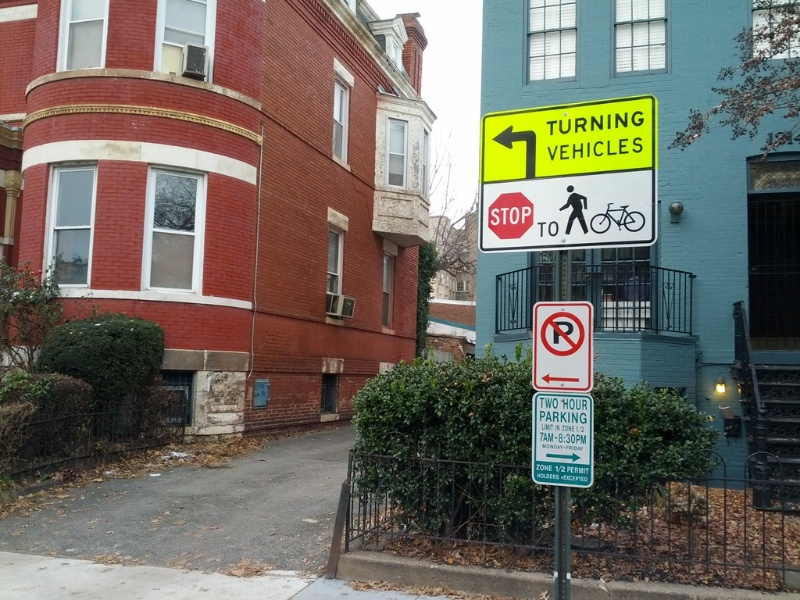no_parking: (532, 297, 588, 385)
stop: (487, 191, 531, 245)
